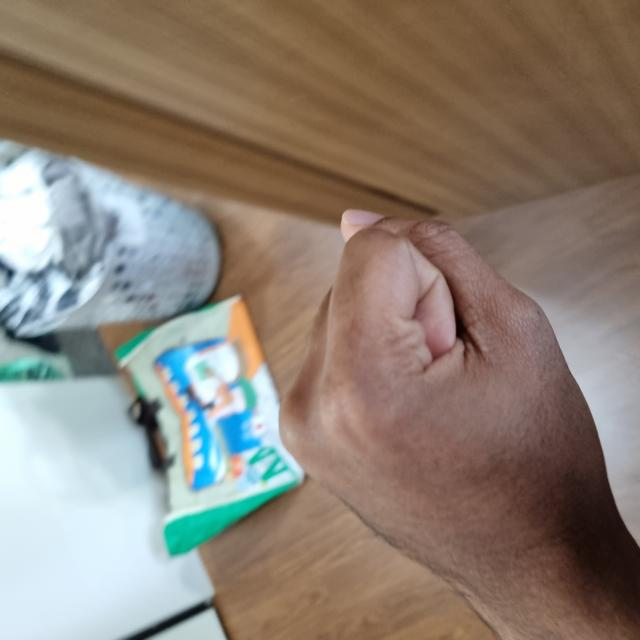Rock: (28, 277, 427, 608)
